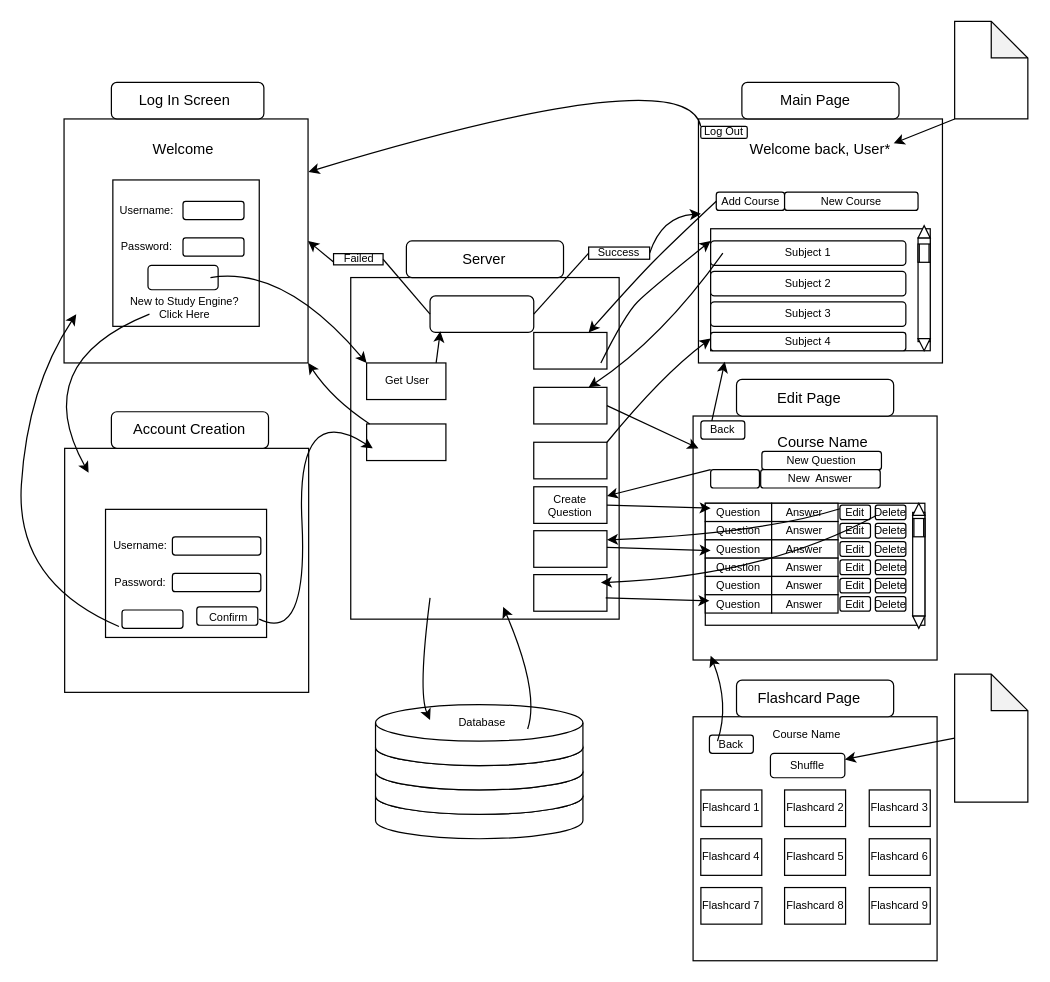
Some shapes in this 1050 by 982 pixel diagram are drawn without their labels. The shapes that lost their labels are listed below. From the top down, each one's centre as x and y in pixels, then its label:
At point (990, 69): "Current user's first name will be displayed here".
At point (182, 277): "Log In".
At point (481, 313): "User Authentication".
At point (570, 350): "Create Course".
At point (570, 405): "Get Course".
At point (405, 442): "Create User".
At point (570, 460): "Delete Course".
At point (734, 478): "Add".
At point (570, 548): "Update Course".
At point (570, 592): "Delete Question".
At point (152, 618): "Cancel".
At point (990, 737): "Shuffles up to 15 random questions from the selected course".
